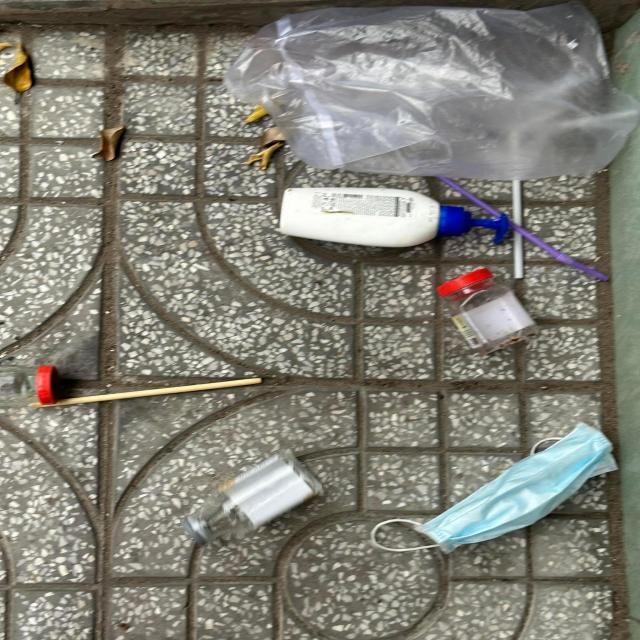bag: (224, 0, 640, 177)
bottle: (180, 448, 326, 545), (280, 188, 510, 247)
drinking straw: (434, 176, 610, 282), (512, 179, 522, 277)
mask: (376, 422, 622, 553)
plastic holder: (438, 268, 537, 352), (0, 361, 61, 407)
